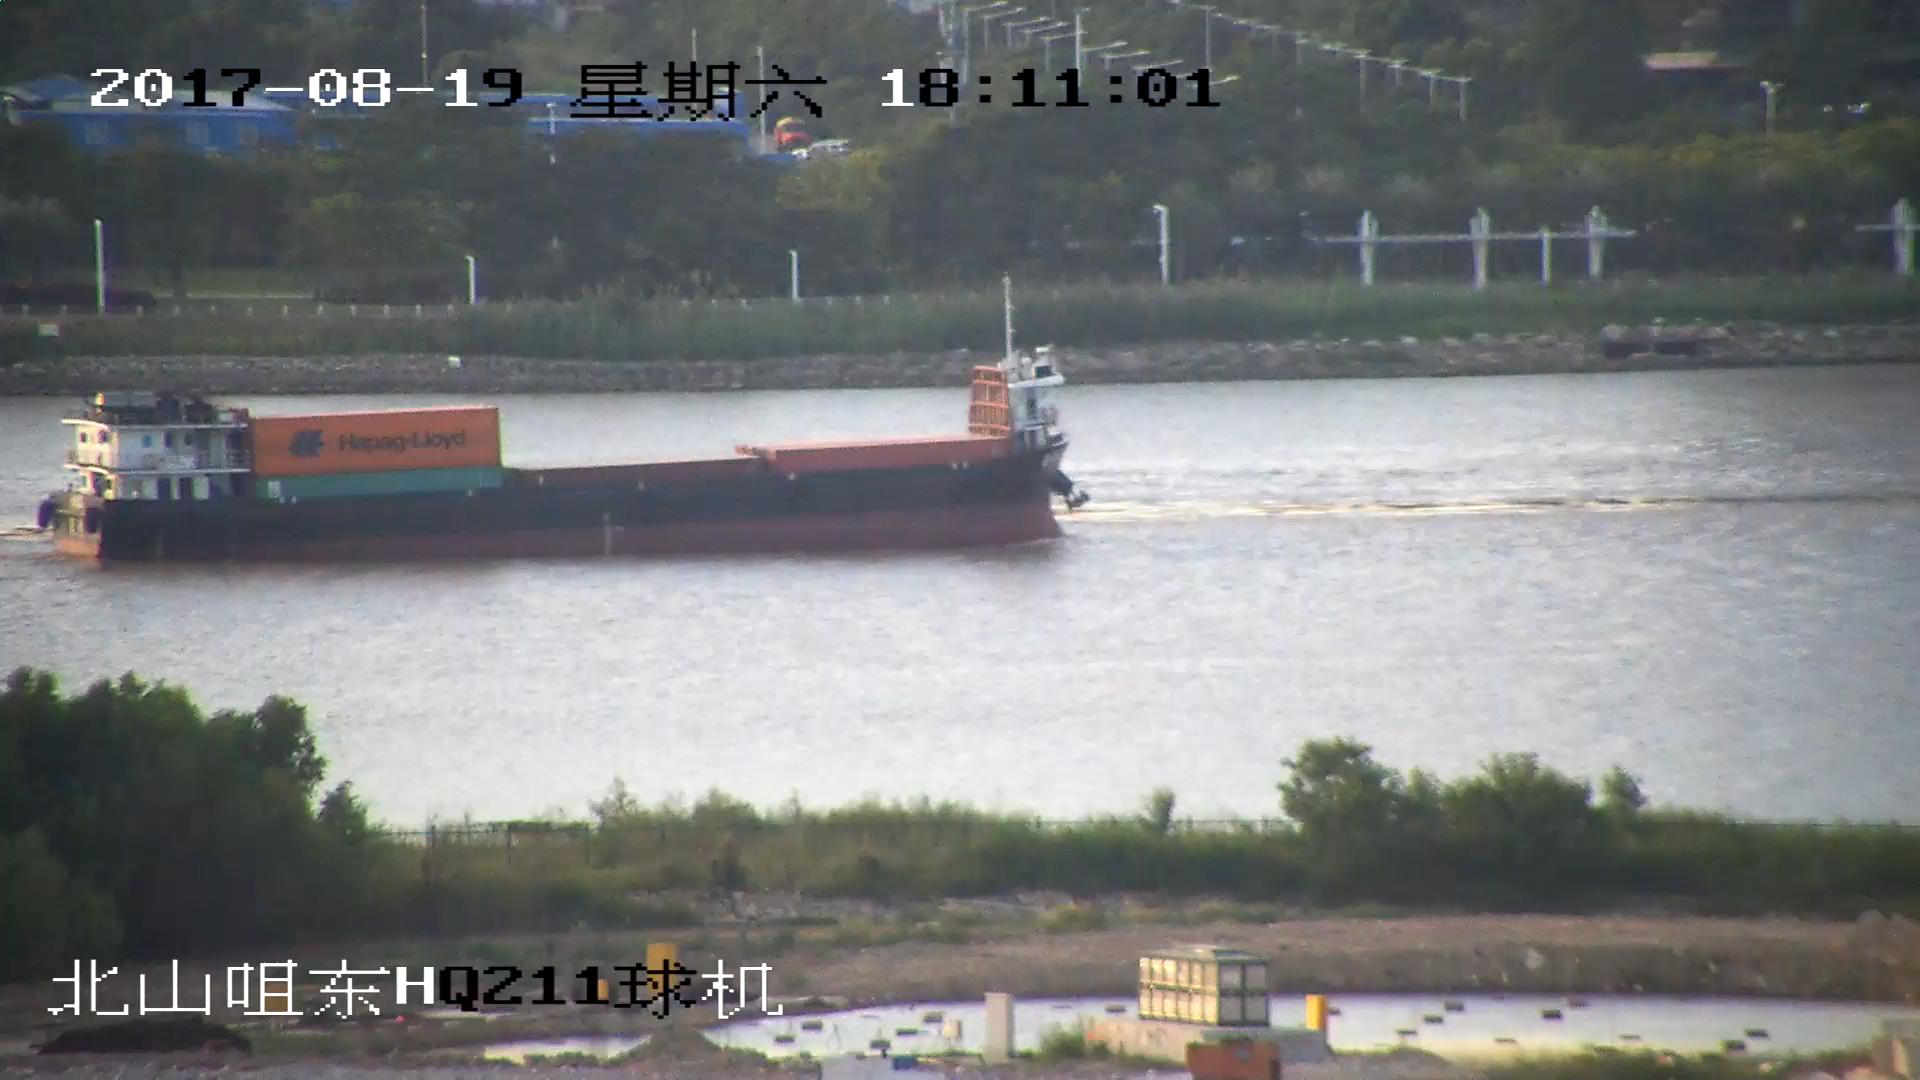container ship: (42, 304, 1074, 560)
